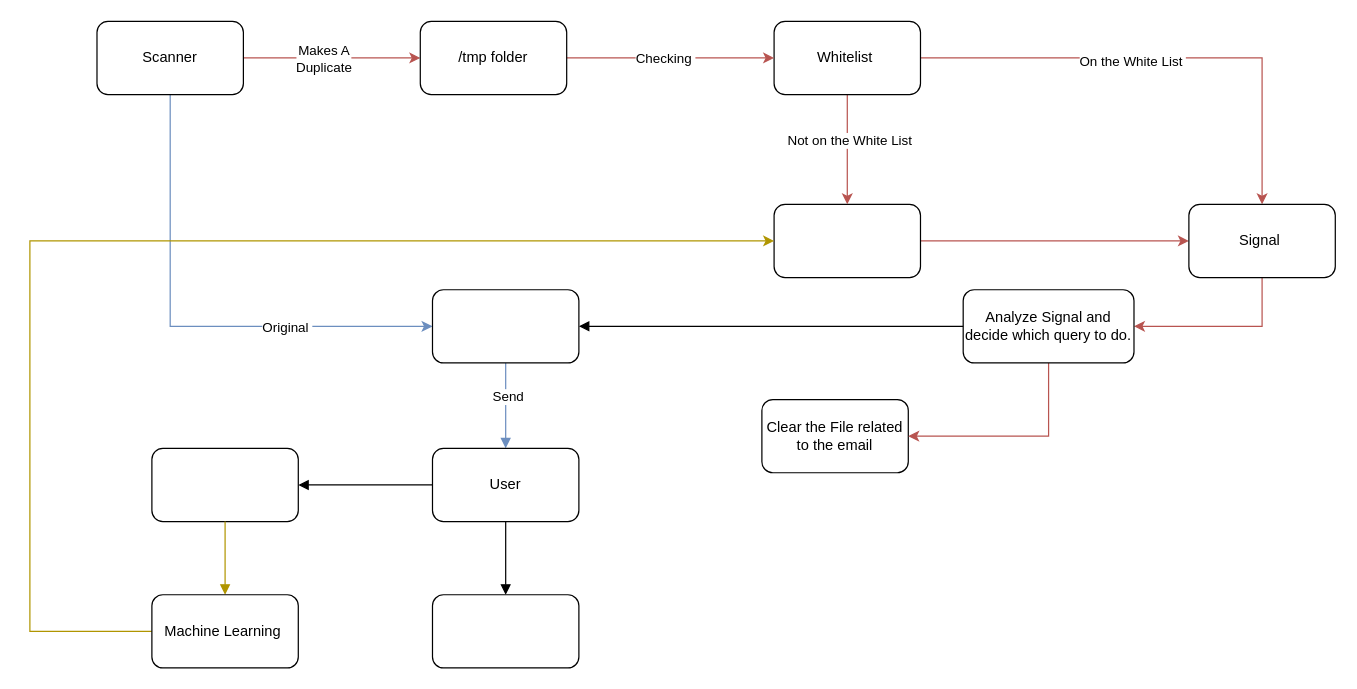
The diagram is 1357 pixels wide and 689 high, and some of its shapes have lost their labels. The shapes that lost their labels are listed below. From the top down, each one's centre as x and y in pixels, then its label:
point 846,240: Blacklist
point 505,326: Quarantine
point 224,484: Yes
point 505,631: No
